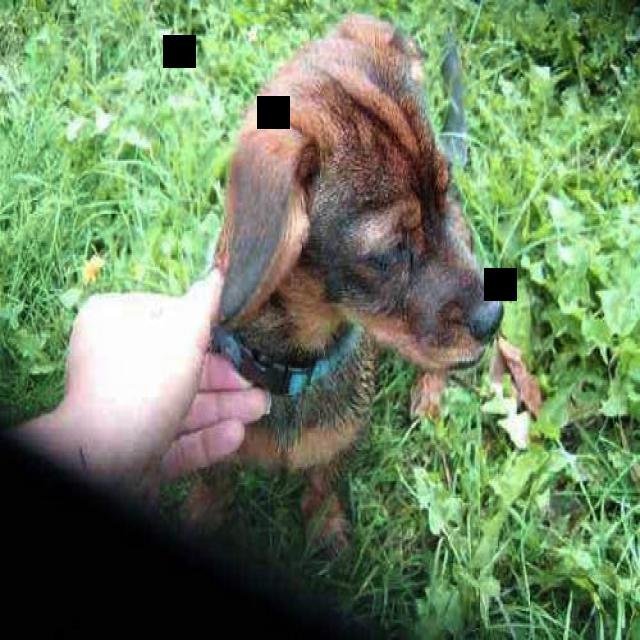puppy-dog: (157, 18, 508, 552)
